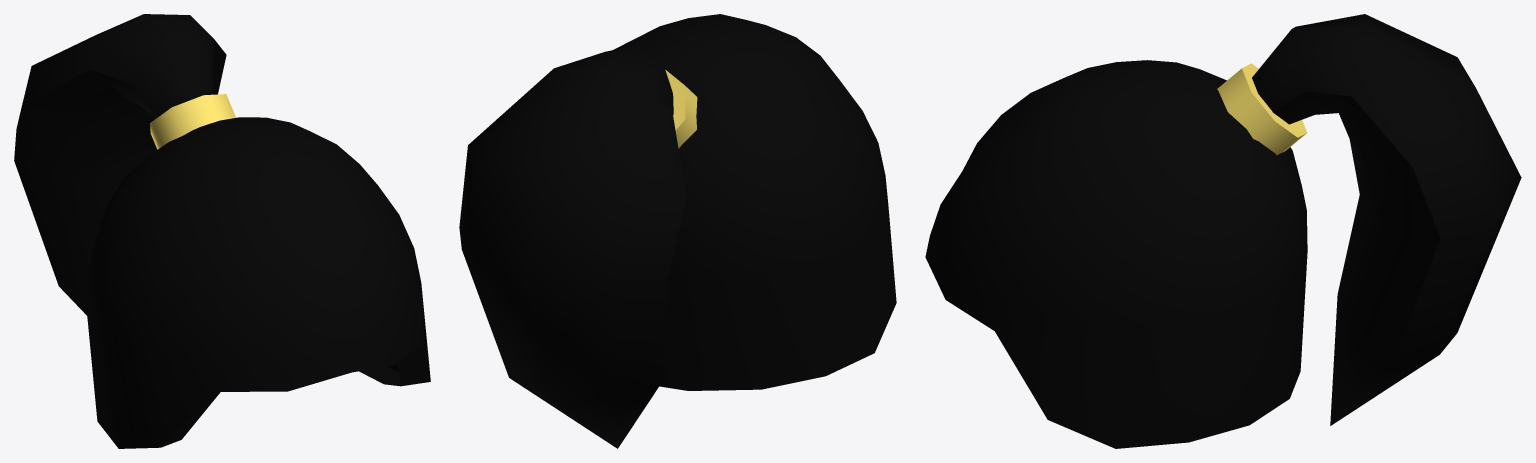
The model's file is Hair_06.fbx.
3 renders of one model, left to right at view 1: azimuth 30°, elevation 25°; view 2: azimuth 150°, elevation 25°; view 3: azimuth 270°, elevation 25°, orthographic. The views are drawn at different scales.
Parts seen in each view (by area): view 1: Hair_06; view 2: Hair_06; view 3: Hair_06.
Part boxes in pixels (left/top/right/bottom): Hair_06: left=14, top=14, right=430, bottom=448; Hair_06: left=459, top=14, right=896, bottom=448; Hair_06: left=925, top=14, right=1521, bottom=448.
Size of the model in its own units: 110 by 132 by 178.
